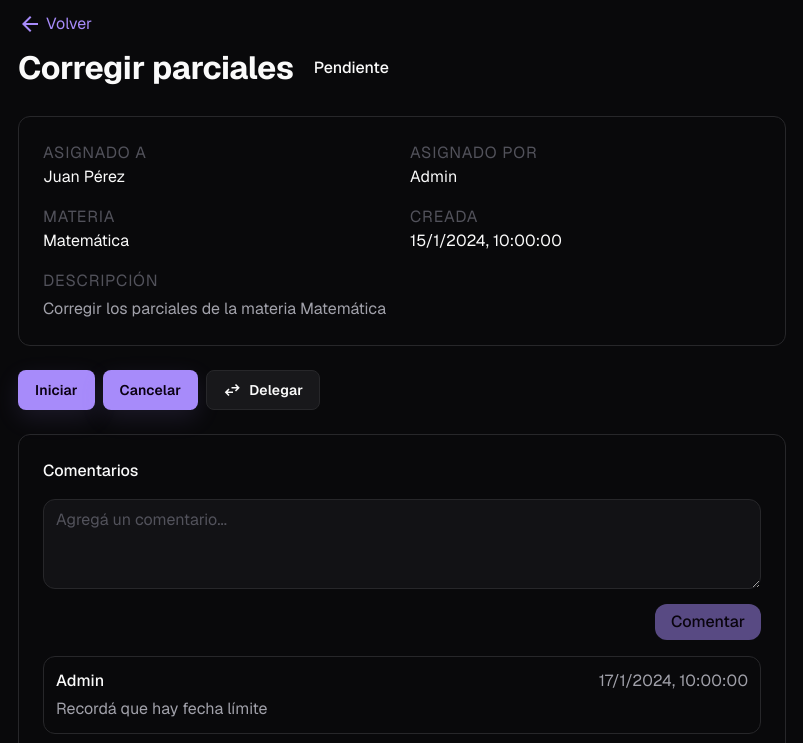
Scenario: TareaDetallePage › shows cancel reason input when Cancelar is clicked
What coordinates should you click on to do the following:
click the button "Cancelar"
I would click on:
 (150, 390)
Its box is [102,370,198,410].
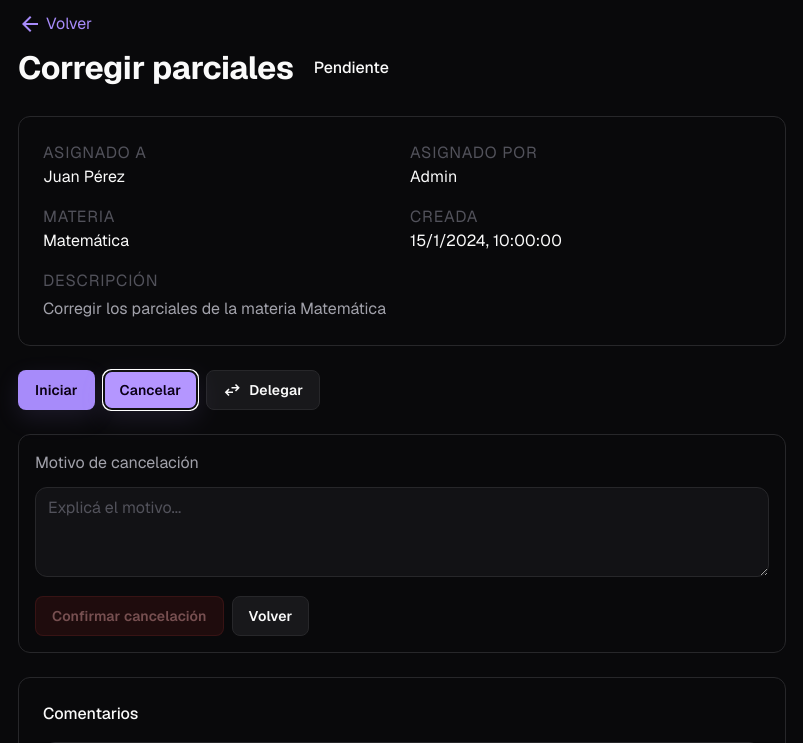
Now the text box with placeholder "Explicá el motivo..." is shown, box [35,487,769,577]
Now the button "Confirmar cancelación" is shown, box [35,596,224,636]
